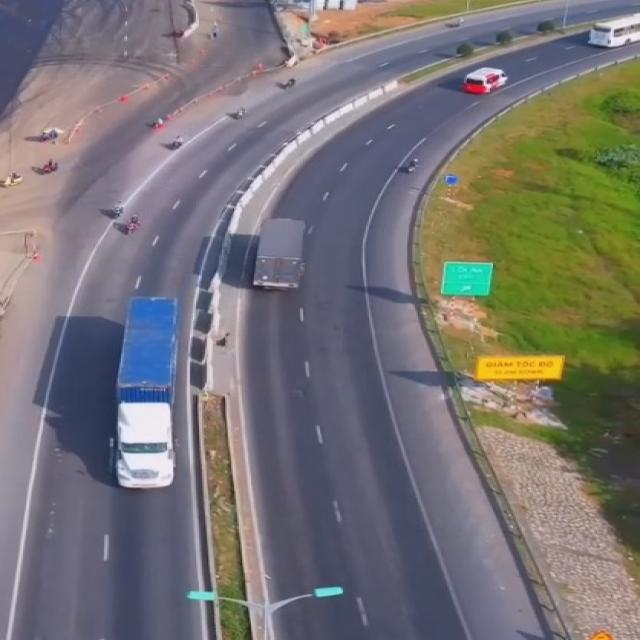bus: (586, 15, 640, 50), (461, 67, 507, 97)
truck: (118, 298, 184, 492), (248, 214, 308, 295)
